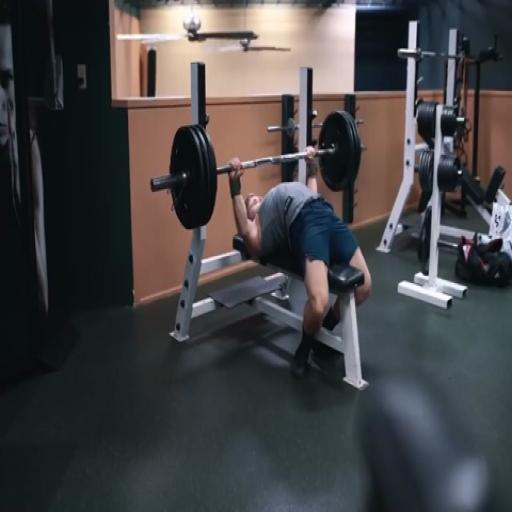exercise: (225, 145, 374, 381)
